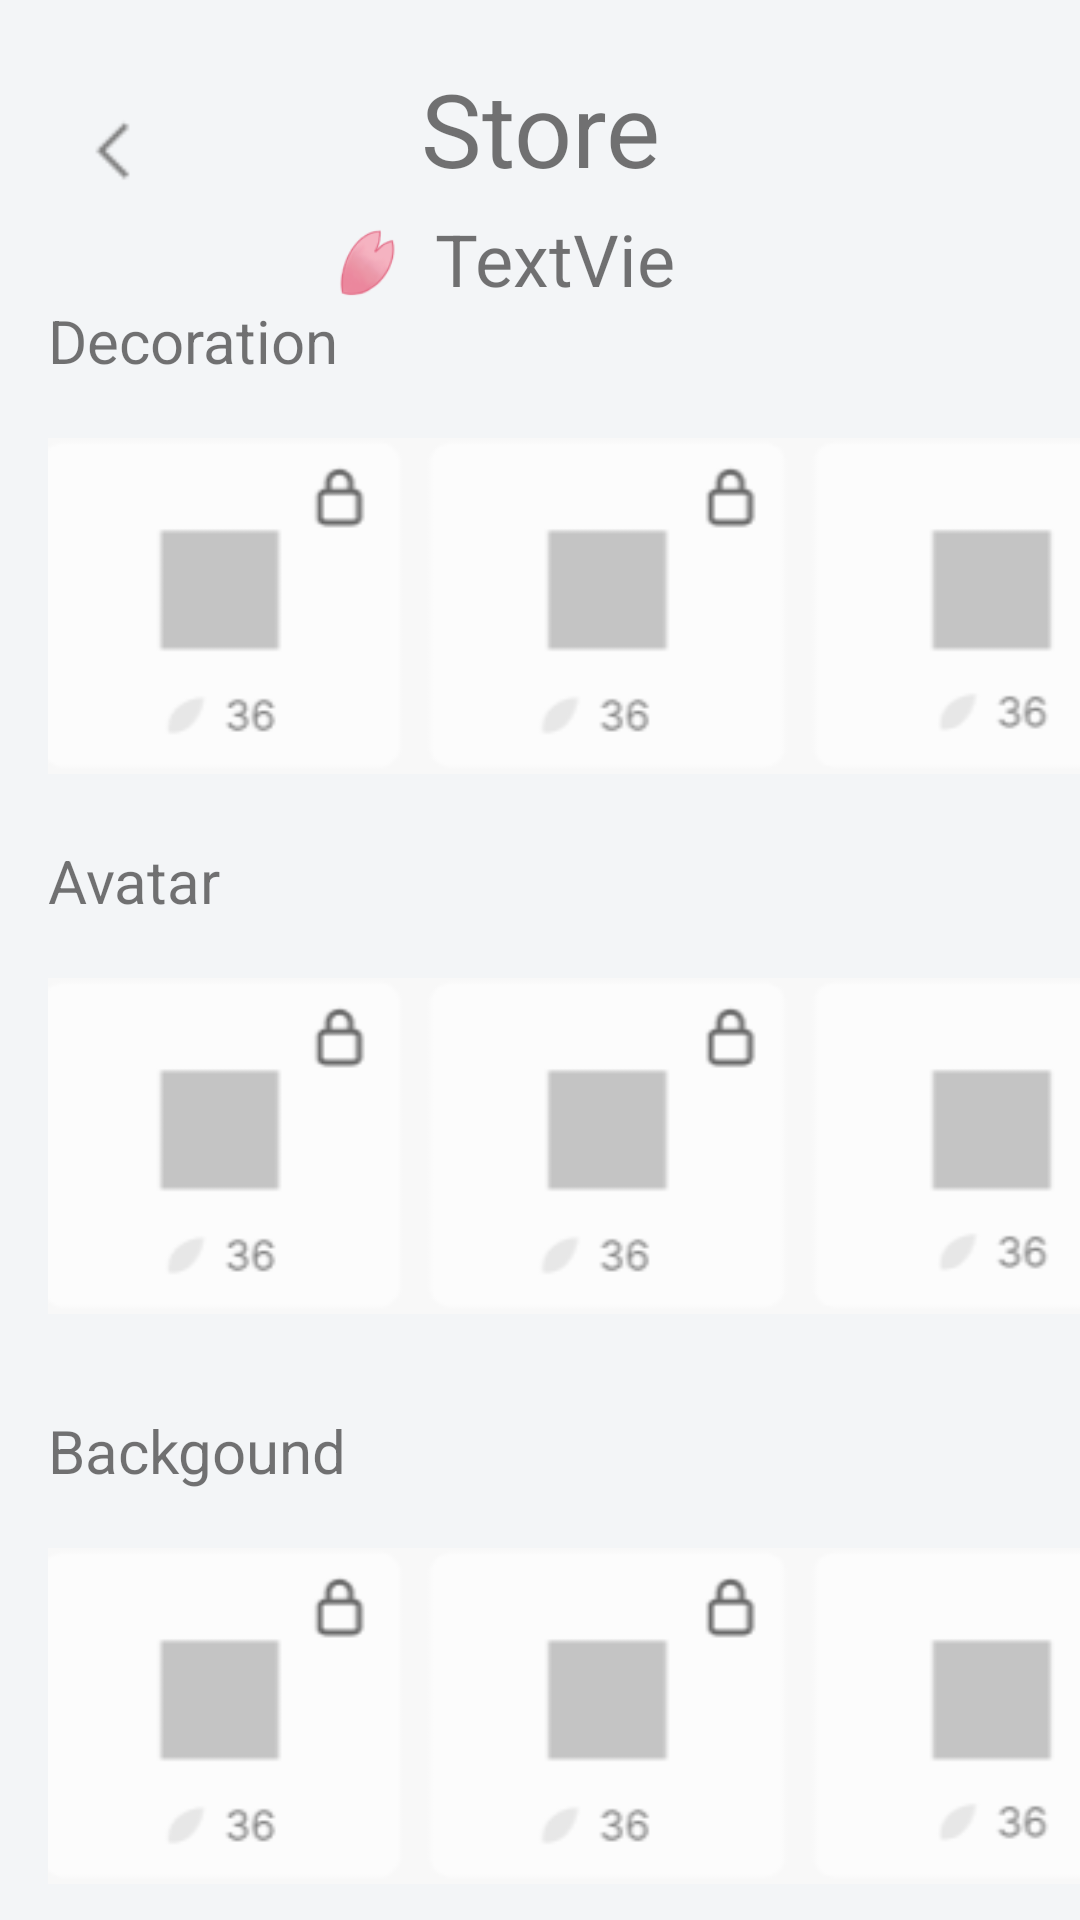

Icon bounding boxes for this 1080×1920 phone screenshot, format (x1, y1, x2, y2):
petal: (340, 230, 395, 295)
prev page: (96, 123, 129, 179)
